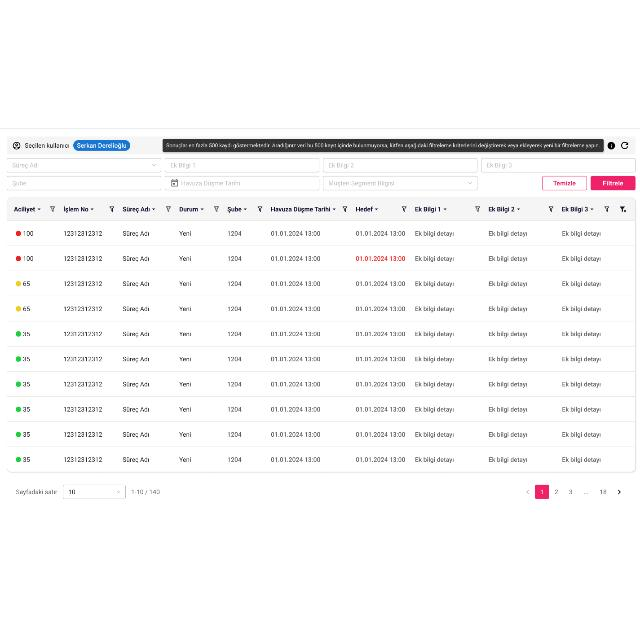QLabel: (166, 142, 600, 148), (76, 142, 128, 148), (24, 142, 70, 148), (552, 179, 576, 185), (602, 179, 624, 185)
VBtn: (542, 174, 588, 190), (590, 174, 636, 190)
VCard: (6, 135, 636, 153)
VChip: (74, 140, 130, 150)
VCombobox: (322, 174, 478, 190), (7, 156, 162, 172)
VDataTable: (5, 194, 637, 503)
VIcon: (620, 140, 630, 148), (607, 141, 615, 149), (12, 141, 20, 149)
VInlineDatepicker: (164, 174, 320, 190)
VTextField: (164, 156, 320, 172), (322, 156, 478, 172), (480, 156, 636, 172), (7, 174, 162, 190)
